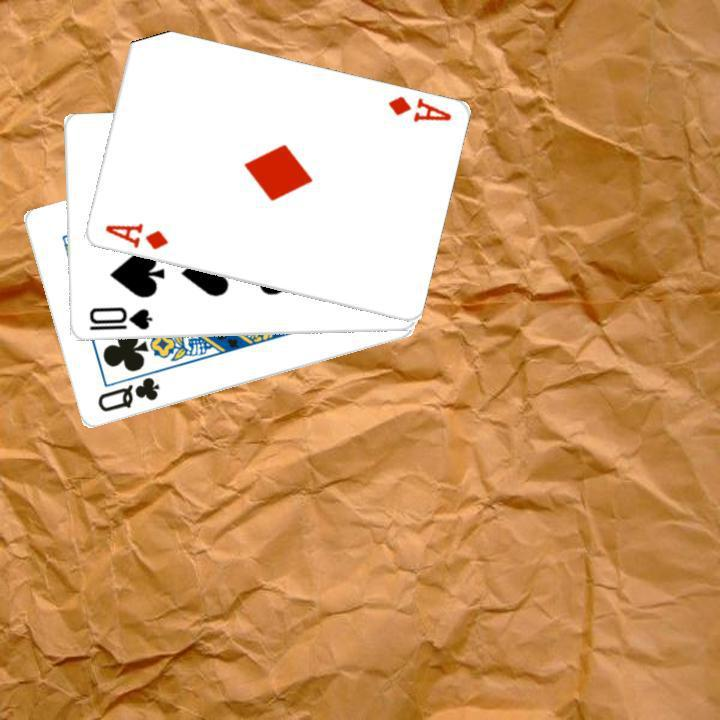10: (84, 303, 154, 333)
A: (100, 219, 170, 252), (383, 92, 453, 125)
Q: (93, 373, 162, 415)
